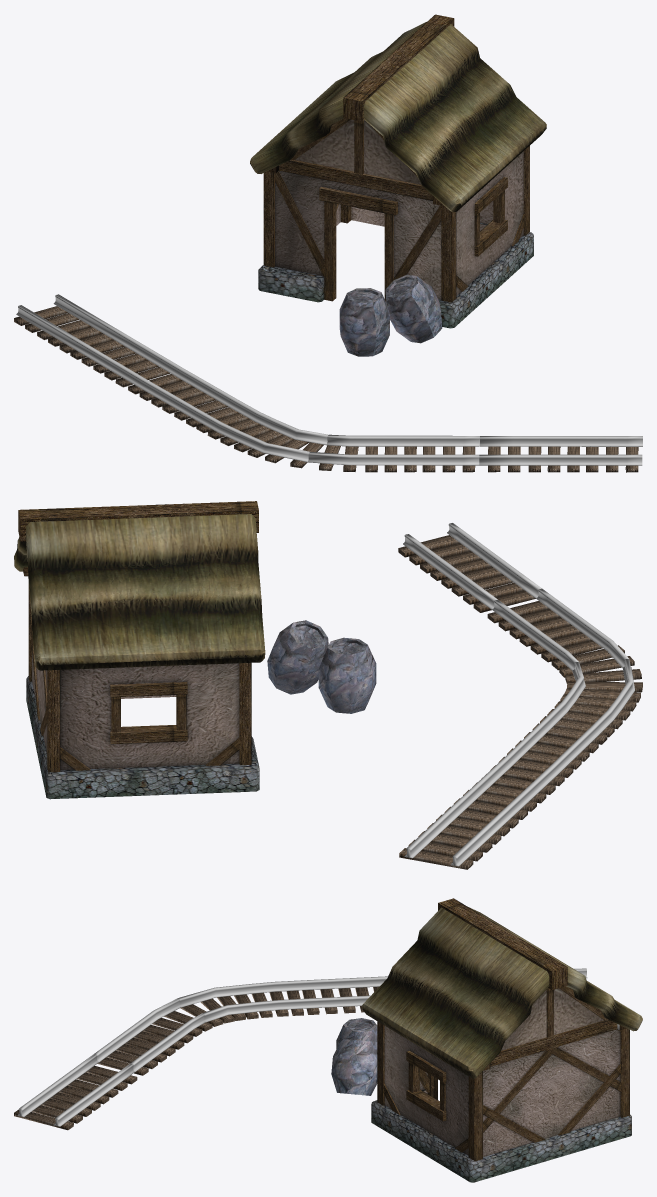
File: mine6.fbx
3 views of the same model, one above another, from view 1: azimuth 30°, elevation 25°; view 2: azimuth 150°, elevation 25°; view 3: azimuth 270°, elevation 25° (orthographic). The views are drawn at different scales.
Visible parts, largest first — view 1: chatka6_telo, chatka6_strecha, koleje6_metal, koleje6_wood, Barel6, Barel6.001; view 2: chatka6_strecha, chatka6_telo, koleje6_wood, koleje6_metal, Barel6, Barel6.001; view 3: chatka6_telo, chatka6_strecha, koleje6_metal, koleje6_wood, Barel6.001, Barel6.
Boxes of the visible parts, box(x1,y1,x2,y2) form: chatka6_telo: box(258, 14, 533, 328); chatka6_strecha: box(250, 22, 546, 212); koleje6_metal: box(16, 294, 642, 465); koleje6_wood: box(14, 306, 638, 472); Barel6: box(339, 288, 389, 356); Barel6.001: box(385, 274, 442, 343); chatka6_strecha: box(14, 514, 265, 670); chatka6_telo: box(18, 501, 259, 799); koleje6_wood: box(398, 535, 642, 869); koleje6_metal: box(403, 523, 634, 866); Barel6: box(318, 637, 376, 713); Barel6.001: box(267, 620, 328, 694); chatka6_telo: box(371, 898, 631, 1182); chatka6_strecha: box(362, 907, 642, 1078); koleje6_metal: box(17, 968, 587, 1126); koleje6_wood: box(14, 986, 378, 1130); Barel6.001: box(331, 1039, 377, 1095); Barel6: box(336, 1018, 377, 1048).
Size of the model in its own units: 3.78 by 1.63 by 4.78.
